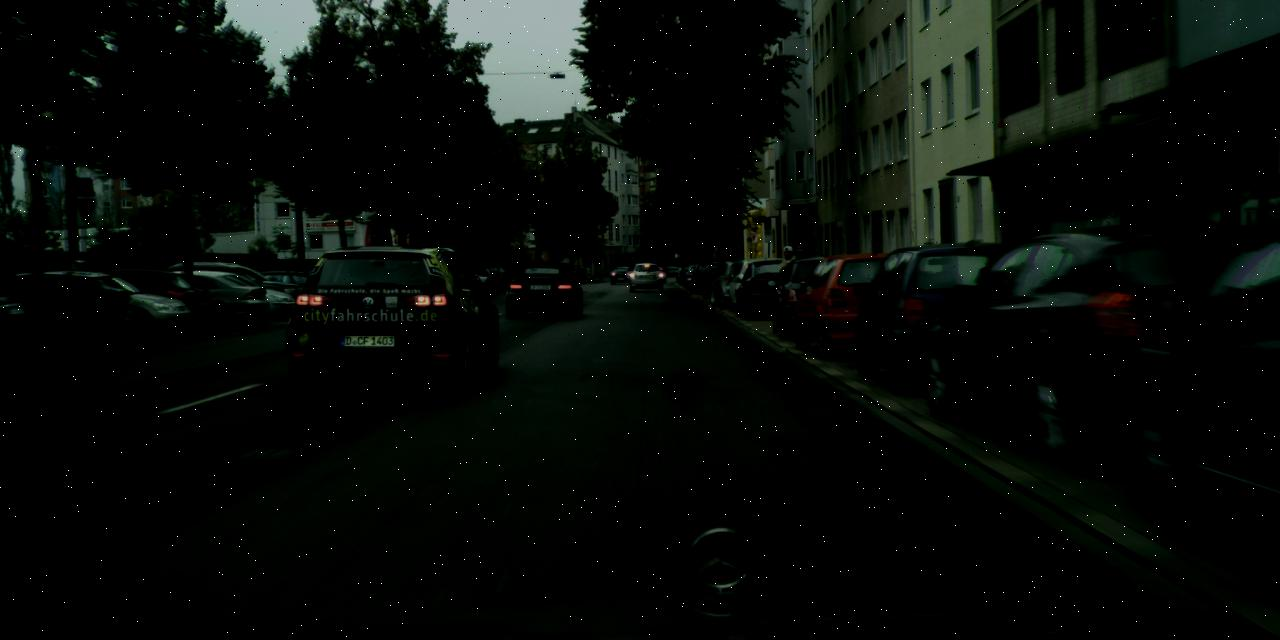ped: (787, 242, 818, 319), (774, 245, 803, 319)
